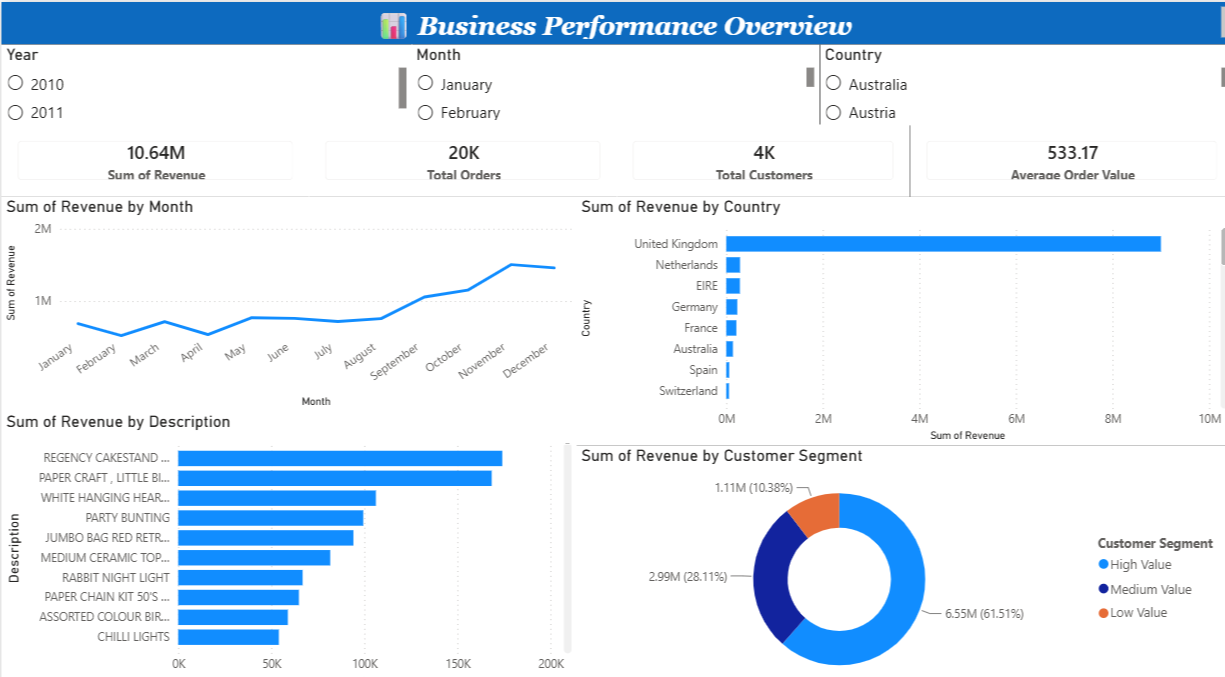

What the dashboard file says about the page in this screenshot:
{"tool":"powerbi","page":{"name":"Business Performance Overview","canvas":[1280,720],"ordinal":0},"visuals":[{"type":"textbox","box":[0,0,1280,43.8],"z":0},{"type":"cardVisual","fields":{"Data":["Sum(cleaned_online_retail.Revenue)"]},"box":[0,127.3,319.5,88.3],"z":1000},{"type":"cardVisual","fields":{"Data":["cleaned_online_retail.Total Orders"]},"box":[319.5,127.3,319.5,88.3],"z":2000},{"type":"cardVisual","fields":{"Data":["cleaned_online_retail.Total Customers"]},"box":[639,127.3,305.2,88.3],"z":3000},{"type":"cardVisual","fields":{"Data":["cleaned_online_retail.Average Order Value"]},"box":[944.2,127.3,336.4,88.3],"z":4000},{"type":"lineChart","title":"Revenue by Month","fields":{"Category":["cleaned_online_retail.Month.Variation.Date Hierarchy.Month"],"Y":["Sum(cleaned_online_retail.Revenue)"]},"box":[0,215.6,597.4,223.4],"z":5000},{"type":"clusteredBarChart","title":"Revenue by Country","fields":{"Category":["cleaned_online_retail.Country"],"Y":["Sum(cleaned_online_retail.Revenue)"]},"box":[597.4,215.6,683.1,245.5],"z":6000},{"type":"clusteredBarChart","title":"Top 10 Products By Revenue","fields":{"Category":["cleaned_online_retail.Description"],"Y":["Sum(cleaned_online_retail.Revenue)"]},"box":[0,439,597.4,280.5],"z":7000},{"type":"donutChart","title":"Revenue by Customer Segment","fields":{"Category":["Customer Summary.Customer Segment"],"Y":["Sum(Customer Summary.Revenue)"]},"box":[597.5,461.2,682.5,258.8],"z":8000},{"type":"listSlicer","fields":{"Values":["cleaned_online_retail.InvoiceDate.Variation.Date Hierarchy.Year"]},"box":[0,43.8,426.2,83.8],"z":9000},{"type":"listSlicer","fields":{"Values":["cleaned_online_retail.Month.Variation.Date Hierarchy.Month"]},"box":[426.2,43.8,423.8,83.8],"z":10000},{"type":"listSlicer","fields":{"Values":["cleaned_online_retail.Country"]},"box":[850,43.8,430,83.8],"z":11000}]}

Visuals, with their boxes in screenshot pixels (x1, y1, x2, y2), scaled from the page's 1280x720 canvas onto the 1225x677 screenshot:
textbox: <box>0,0,1224,41</box>
cardVisual - Sum(cleaned_online_retail.Revenue): <box>0,120,306,203</box>
cardVisual - cleaned_online_retail.Total Orders: <box>306,120,612,203</box>
cardVisual - cleaned_online_retail.Total Customers: <box>612,120,904,203</box>
cardVisual - cleaned_online_retail.Average Order Value: <box>904,120,1224,203</box>
"Revenue by Month" lineChart: <box>0,203,572,413</box>
"Revenue by Country" clusteredBarChart: <box>572,203,1224,434</box>
"Top 10 Products By Revenue" clusteredBarChart: <box>0,413,572,676</box>
"Revenue by Customer Segment" donutChart: <box>572,434,1224,676</box>
listSlicer - cleaned_online_retail.InvoiceDate.Variation.Date Hierarchy.Year: <box>0,41,408,120</box>
listSlicer - cleaned_online_retail.Month.Variation.Date Hierarchy.Month: <box>408,41,813,120</box>
listSlicer - cleaned_online_retail.Country: <box>813,41,1224,120</box>
